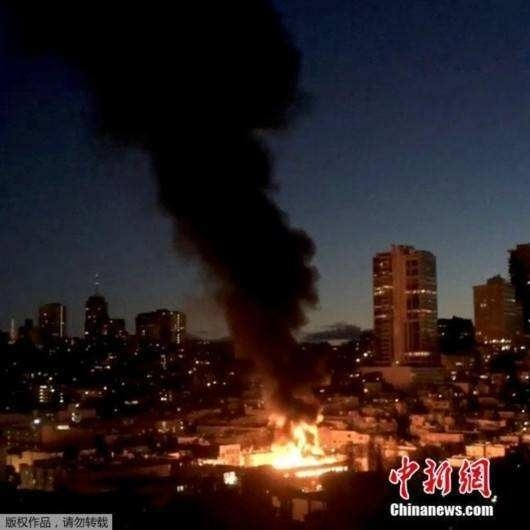fire: (251, 408, 336, 474)
